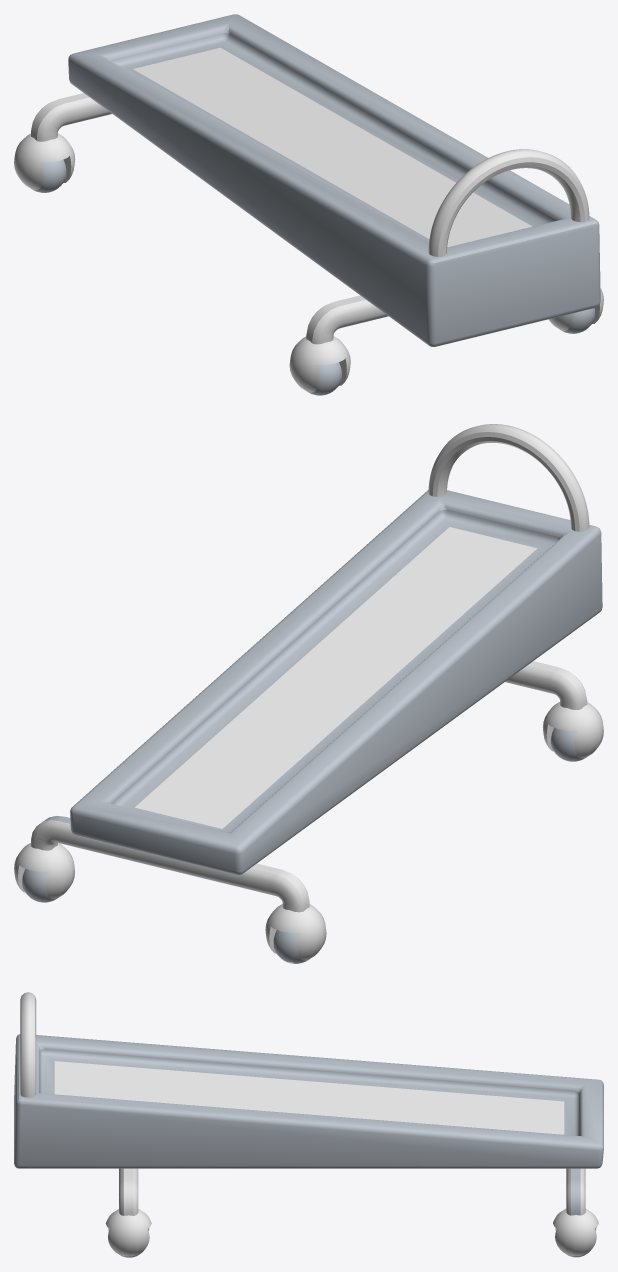
Rendered from basketballbar.fbx.
3 renders of one model, top to bottom at view 1: azimuth 30°, elevation 25°; view 2: azimuth 150°, elevation 25°; view 3: azimuth 270°, elevation 25°, orthographic. The views are drawn at different scales.
Visible parts, largest first — view 1: Basketballbar, Basketballbarwheels4, Basketballbarwheels3; view 2: Basketballbar, Basketballbarwheels2, Basketballbarwheels3, Basketballbarwheels4; view 3: Basketballbar.
Part boxes in pixels (x1=…): Basketballbar: x1=14, y1=14, x2=603, y2=392; Basketballbarwheels4: x1=30, y1=159, x2=66, y2=192; Basketballbarwheels3: x1=306, y1=362, x2=341, y2=395; Basketballbar: x1=14, y1=424, x2=603, y2=960; Basketballbarwheels2: x1=22, y1=868, x2=58, y2=902; Basketballbarwheels3: x1=551, y1=727, x2=586, y2=761; Basketballbarwheels4: x1=273, y1=930, x2=309, y2=963; Basketballbar: x1=14, y1=992, x2=603, y2=1256.
Size of the model in its own units: 107 by 85.16 by 220.
